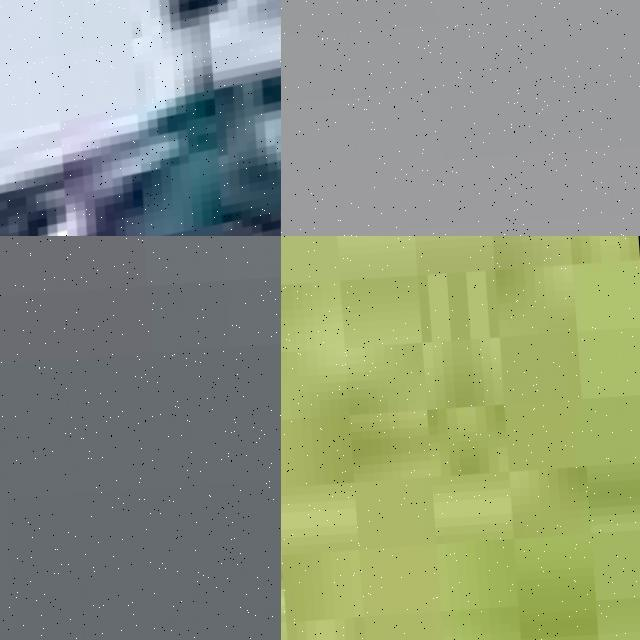drone: (0, 0, 281, 236)
